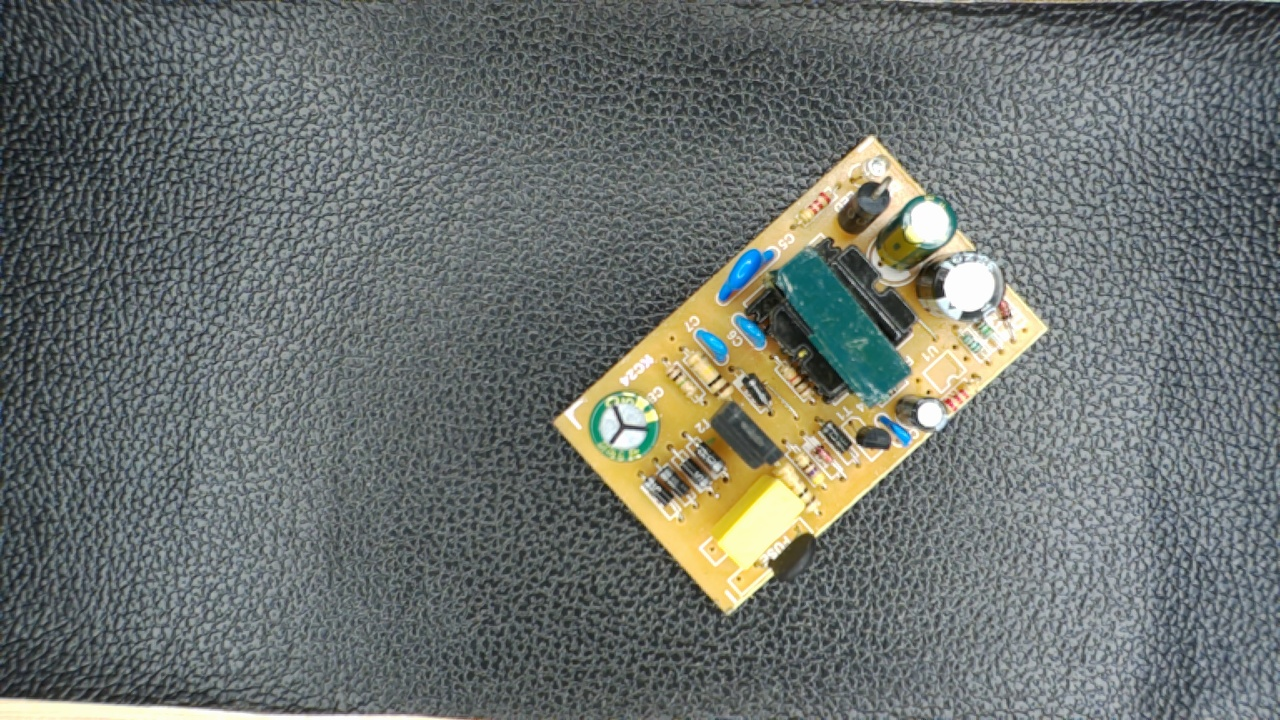fuse: (750, 530, 827, 585)
hv_capacitor: (581, 390, 665, 462)
mov: (711, 245, 780, 305)
